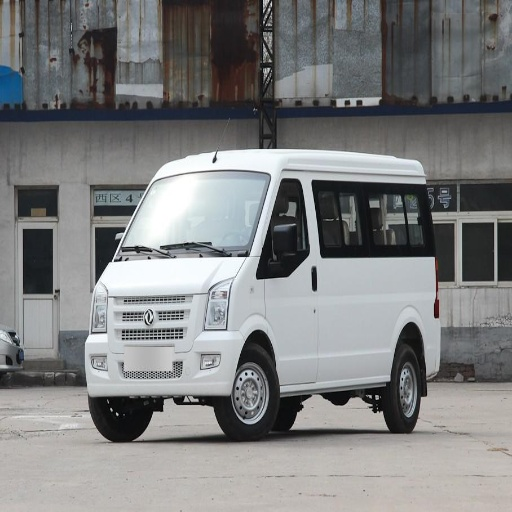front_bumper: (87, 293, 244, 391)
front_glass: (117, 172, 270, 259)
front_left_door: (264, 175, 351, 378)
trunk: (337, 262, 436, 368)
